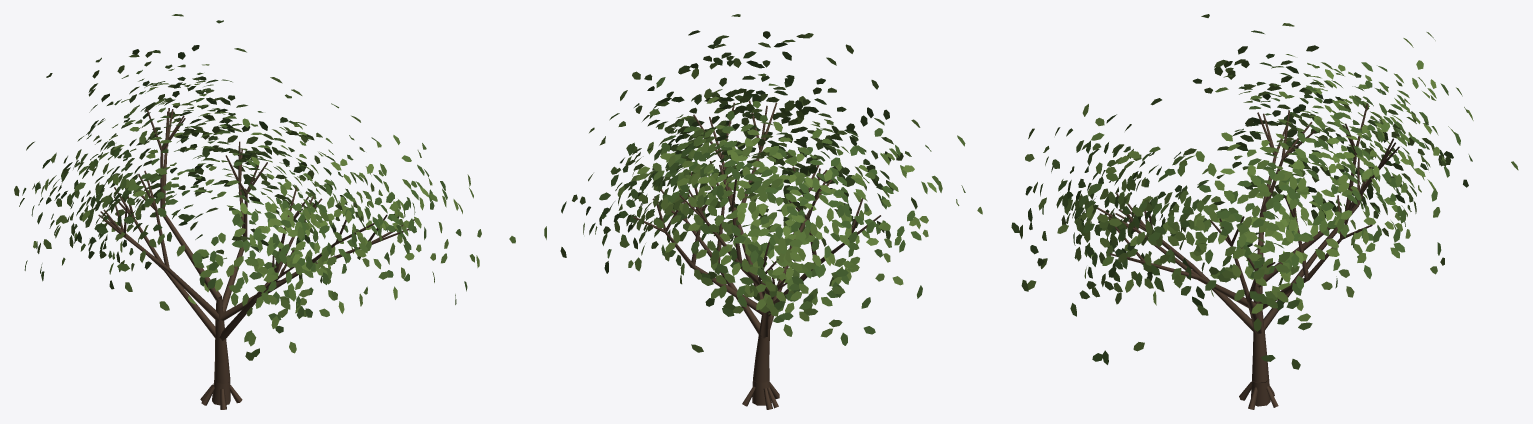
Rendered from oak_0.glb.
3 views of the same model, side by side, from view 1: azimuth 30°, elevation 25°; view 2: azimuth 150°, elevation 25°; view 3: azimuth 270°, elevation 25° (orthographic). The views are drawn at different scales.
Parts seen in each view (by area): view 1: oak_0_LOD0; view 2: oak_0_LOD0; view 3: oak_0_LOD0.
Boxes of the visible parts, x1=… form: oak_0_LOD0: x1=14, y1=14, x2=515, y2=409; oak_0_LOD0: x1=544, y1=14, x2=982, y2=409; oak_0_LOD0: x1=1011, y1=14, x2=1518, y2=409.
Size of what is drawn, in the model's own units: 3.47 by 2.88 by 3.62.
